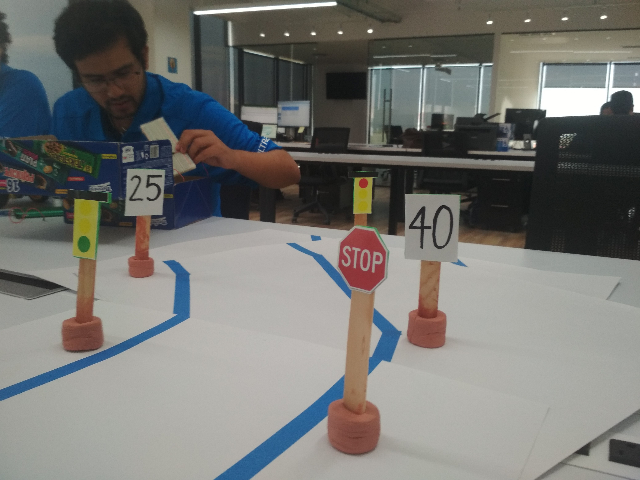Green Traffic Light: (60, 186, 112, 261)
Red Traffic Light: (344, 170, 384, 217)
Speed Limit 25: (119, 166, 169, 218)
Speed Limit 40: (401, 190, 460, 262)
Stop Sign: (334, 222, 390, 292)
